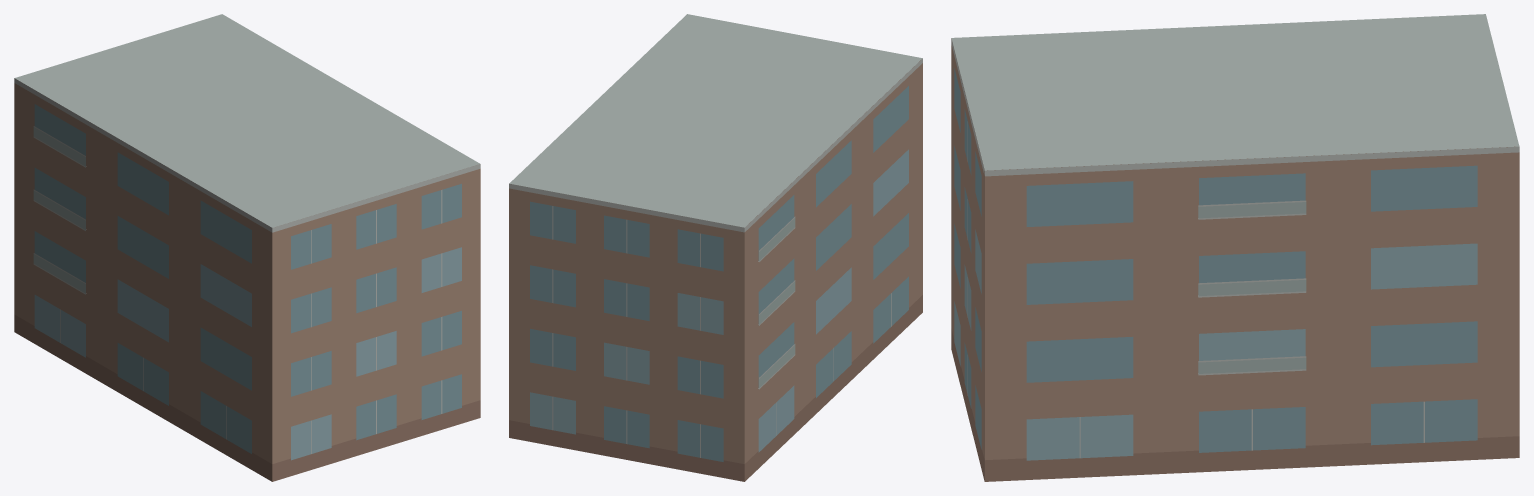
The model's file is survey-upis-32798276.glb.
The picture shows the model from 3 angles, left to right: view 1: azimuth 30°, elevation 25°; view 2: azimuth 150°, elevation 25°; view 3: azimuth 270°, elevation 25°; orthographic projection. The views are drawn at different scales.
Visible parts, largest first — view 1: survey-upis-32798276.tmp; view 2: survey-upis-32798276.tmp; view 3: survey-upis-32798276.tmp.
Part boxes in pixels (x1,y1,x2,y2): survey-upis-32798276.tmp: (14, 14, 480, 481); survey-upis-32798276.tmp: (509, 14, 922, 481); survey-upis-32798276.tmp: (951, 14, 1519, 481).
Size of the model in its own units: 13.92 by 12.9 by 21.34.
